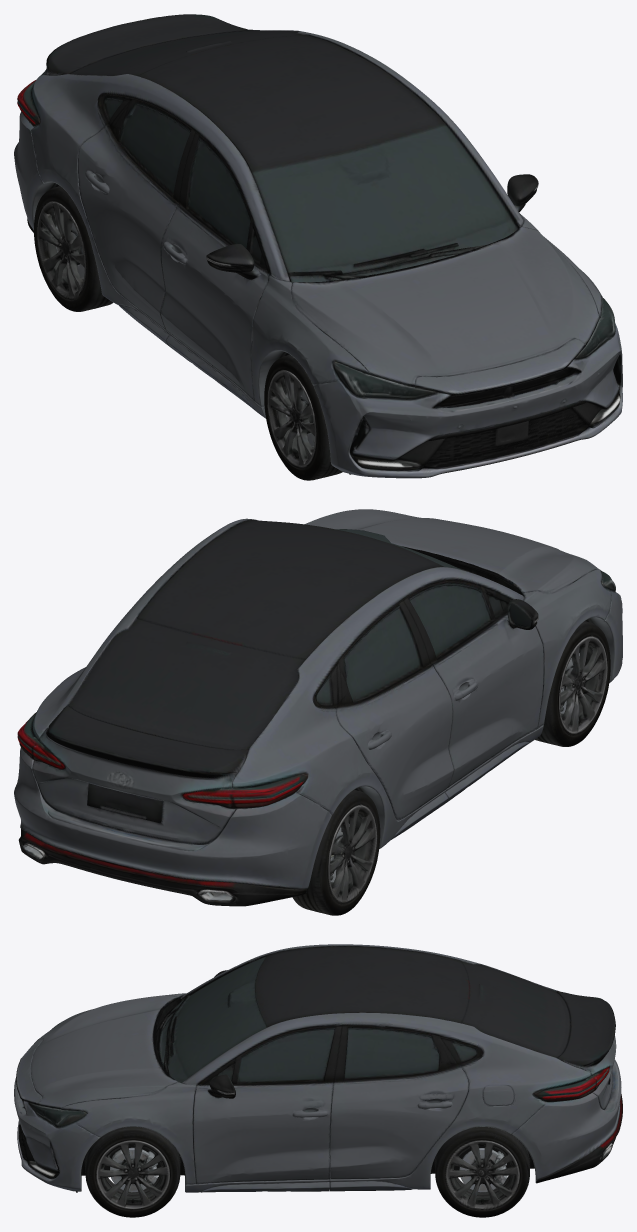
File: car_hatch.glb
The picture shows the model from 3 angles, top to bottom: view 1: azimuth 30°, elevation 25°; view 2: azimuth 150°, elevation 25°; view 3: azimuth 270°, elevation 25°; orthographic projection. The views are drawn at different scales.
Parts seen in each view (by area): view 1: tripo_node_8ab59725-be6d-47f6-b91d-43924e323fd1; view 2: tripo_node_8ab59725-be6d-47f6-b91d-43924e323fd1; view 3: tripo_node_8ab59725-be6d-47f6-b91d-43924e323fd1.
Part boxes in pixels (x1,y1,x2,y2): tripo_node_8ab59725-be6d-47f6-b91d-43924e323fd1: (14,14,622,480); tripo_node_8ab59725-be6d-47f6-b91d-43924e323fd1: (14,509,622,915); tripo_node_8ab59725-be6d-47f6-b91d-43924e323fd1: (14,944,622,1217).
Bounding box in the file's own units: 1.92 × 1.4 × 4.06.
Materials: 1 (1 with a texture image).
